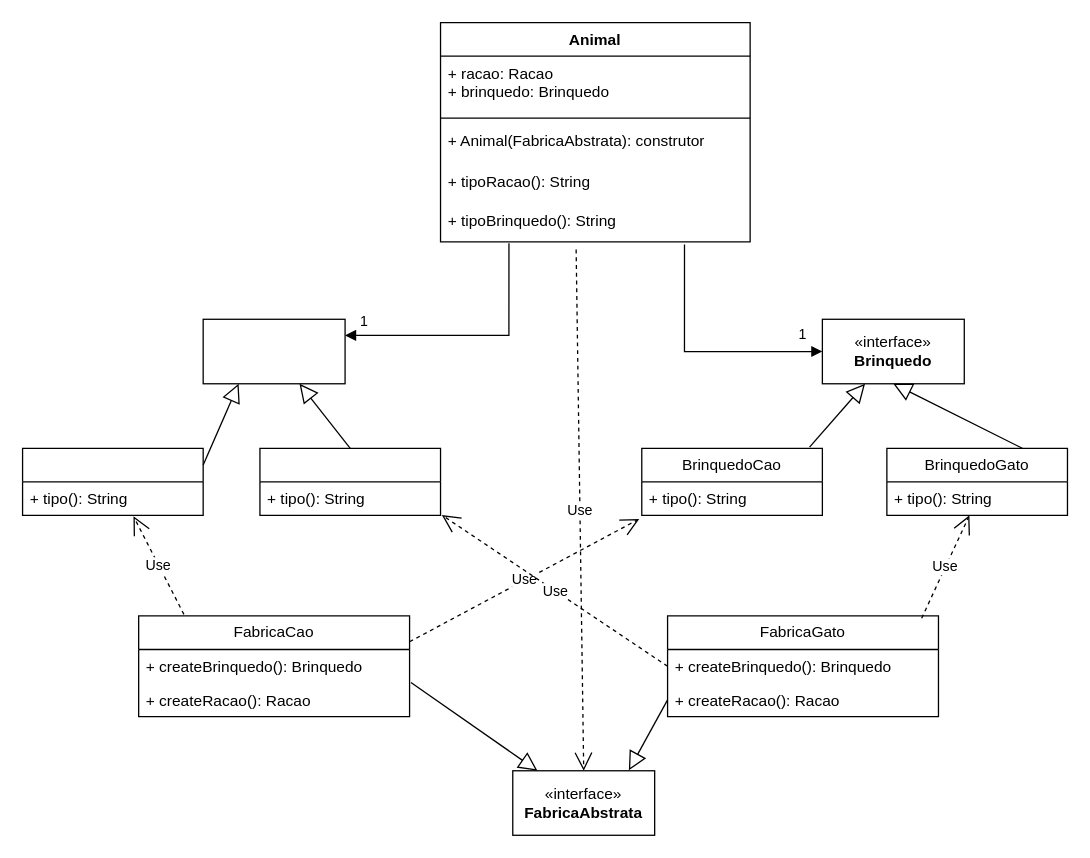
Some shapes in this 1090 by 858 pixel diagram are drawn without their labels. Each missing label, with the box of its shape:
RacaoCao: (21, 447, 203, 515)
RacaoGato: (259, 447, 441, 515)
«interface» Racao: (202, 318, 345, 384)
